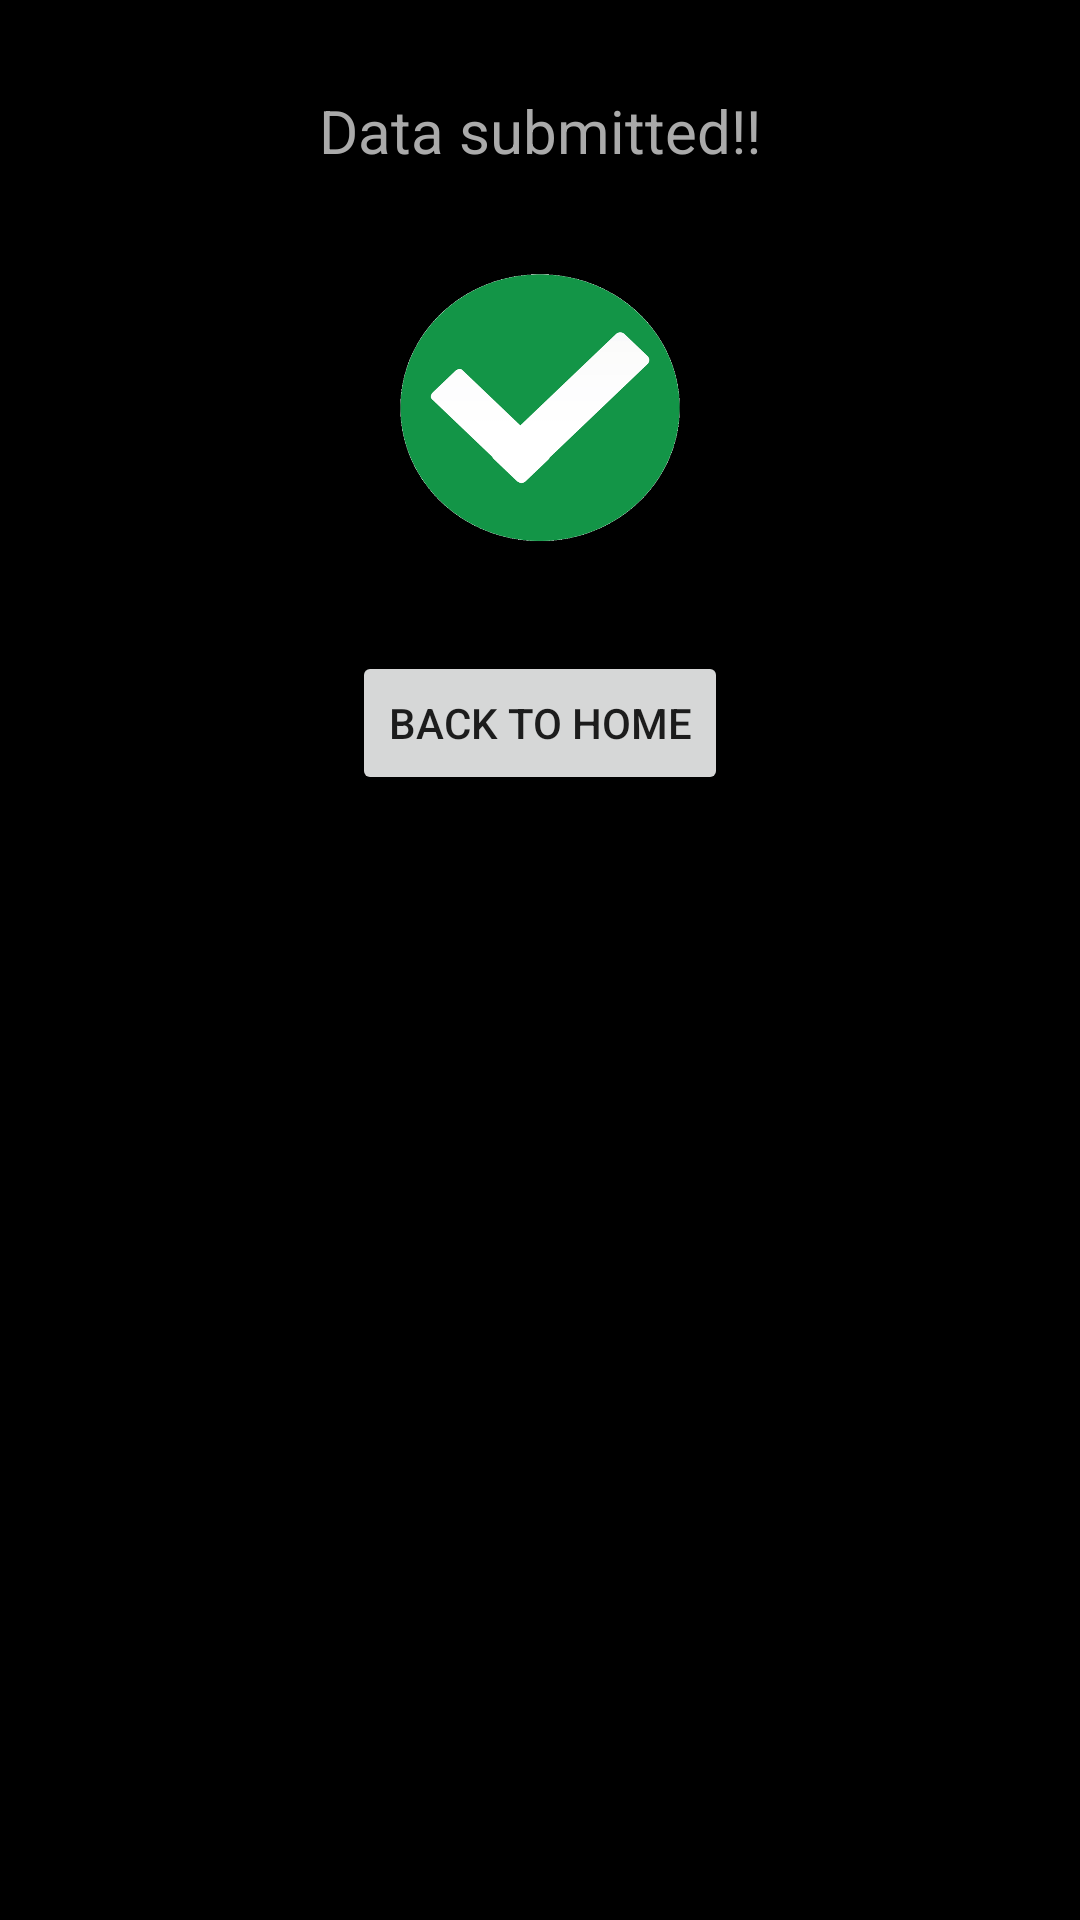

Screen size 1080x1920. Icon name, then its center in pixels as point (x, y):
tickmark: point (540, 407)
